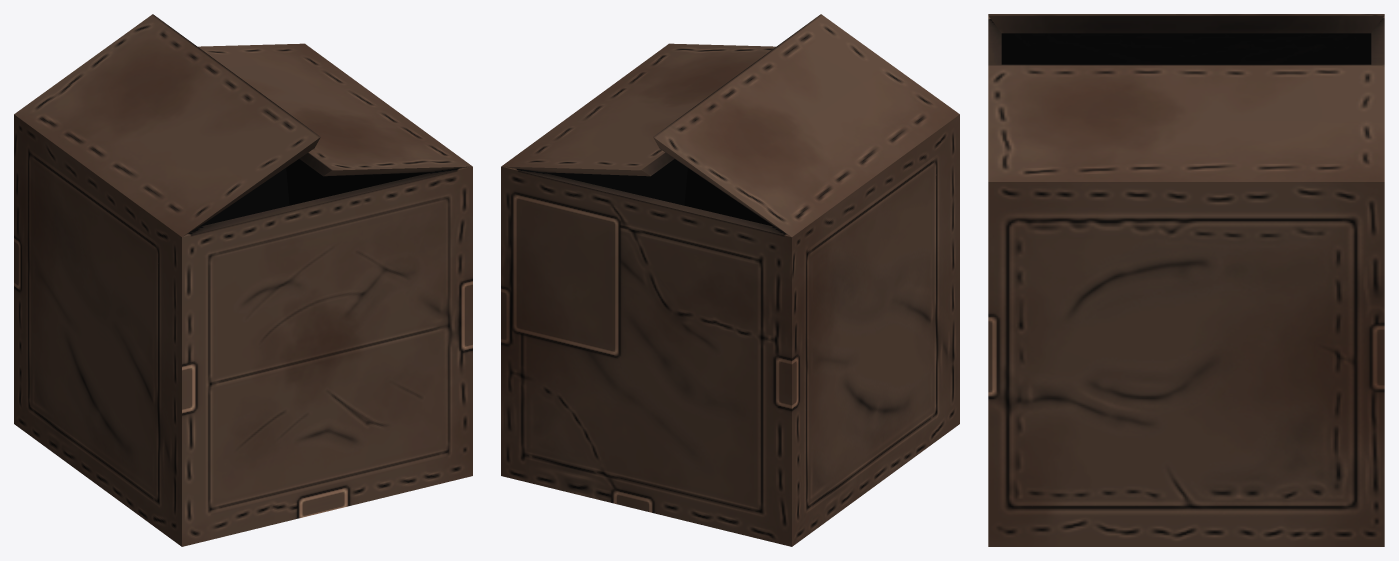
File: cardboard_Box.fbx
The picture shows the model from 3 angles, left to right: view 1: azimuth 30°, elevation 25°; view 2: azimuth 150°, elevation 25°; view 3: azimuth 270°, elevation 25°; orthographic projection. The views are drawn at different scales.
Visible parts, largest first — view 1: carboard_box; view 2: carboard_box; view 3: carboard_box.
Part boxes in pixels (x1,y1,x2,y2): carboard_box: (14,14,472,546); carboard_box: (501,14,959,546); carboard_box: (988,14,1384,546).
Bounding box in the file's own units: 43.03 × 53.16 × 43.03.
